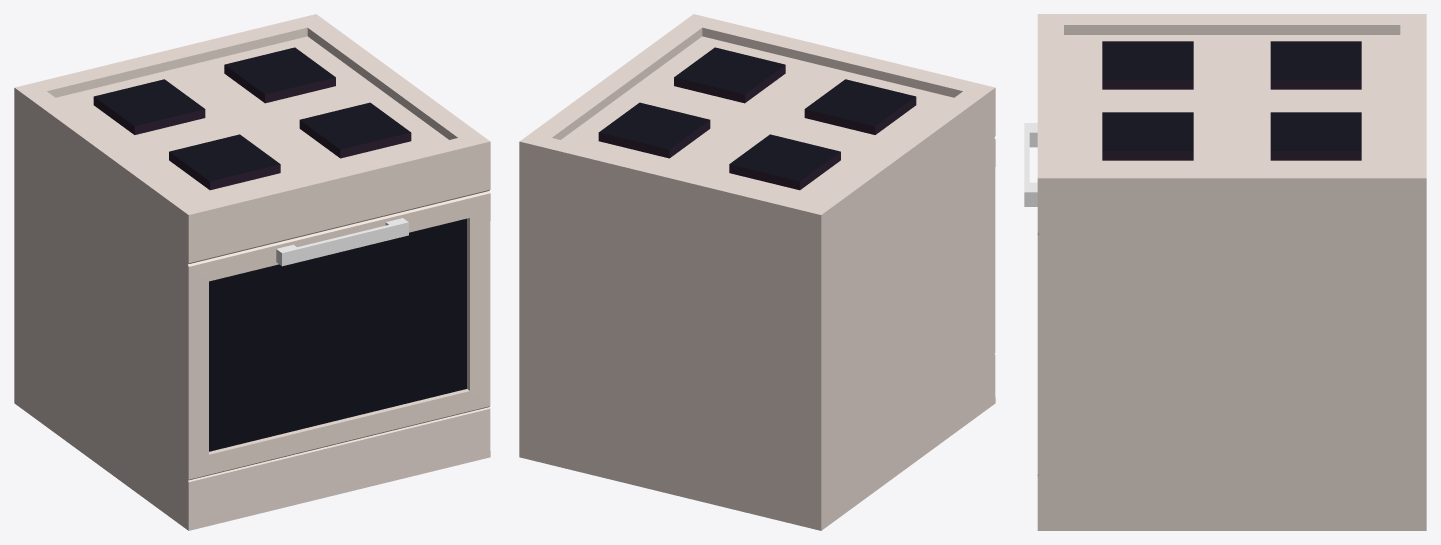
File: oven.fbx
The picture shows the model from 3 angles, left to right: view 1: azimuth 30°, elevation 25°; view 2: azimuth 150°, elevation 25°; view 3: azimuth 270°, elevation 25°; orthographic projection. The views are drawn at different scales.
Parts seen in each view (by area): view 1: oven; view 2: oven; view 3: oven.
Part boxes in pixels (box(x1,y1,x2,y2)): oven: box(14, 14, 490, 530); oven: box(519, 14, 995, 530); oven: box(1024, 14, 1426, 530).
Bounding box in the file's own units: 2 × 2 × 2.07.
